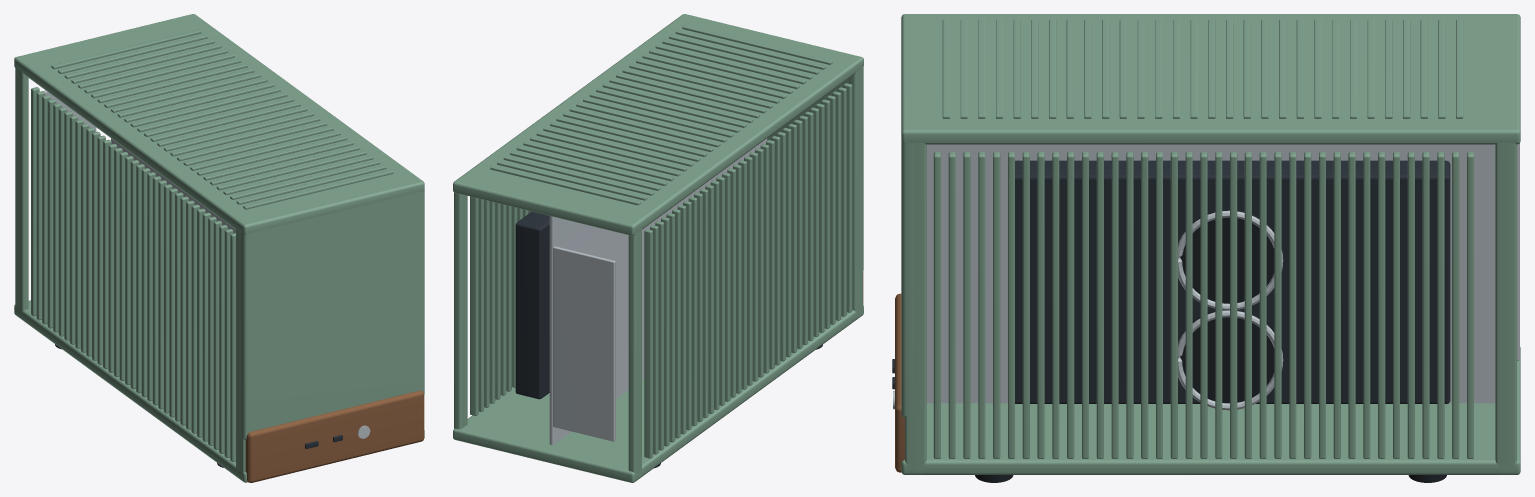
Rendered from fractal-terra.glb.
The picture shows the model from 3 angles, left to right: view 1: azimuth 30°, elevation 25°; view 2: azimuth 150°, elevation 25°; view 3: azimuth 270°, elevation 25°; orthographic projection. The views are drawn at different scales.
Visible parts, largest first — view 1: catalog_surface_RealismUV; view 2: catalog_surface_RealismUV; view 3: catalog_surface_RealismUV.
Boxes of the visible parts, bbox=[...] form: catalog_surface_RealismUV: bbox=[14, 14, 424, 482]; catalog_surface_RealismUV: bbox=[453, 14, 863, 482]; catalog_surface_RealismUV: bbox=[892, 14, 1520, 482].
Size of the model in its own units: 0.153 by 0.218 by 0.343.
